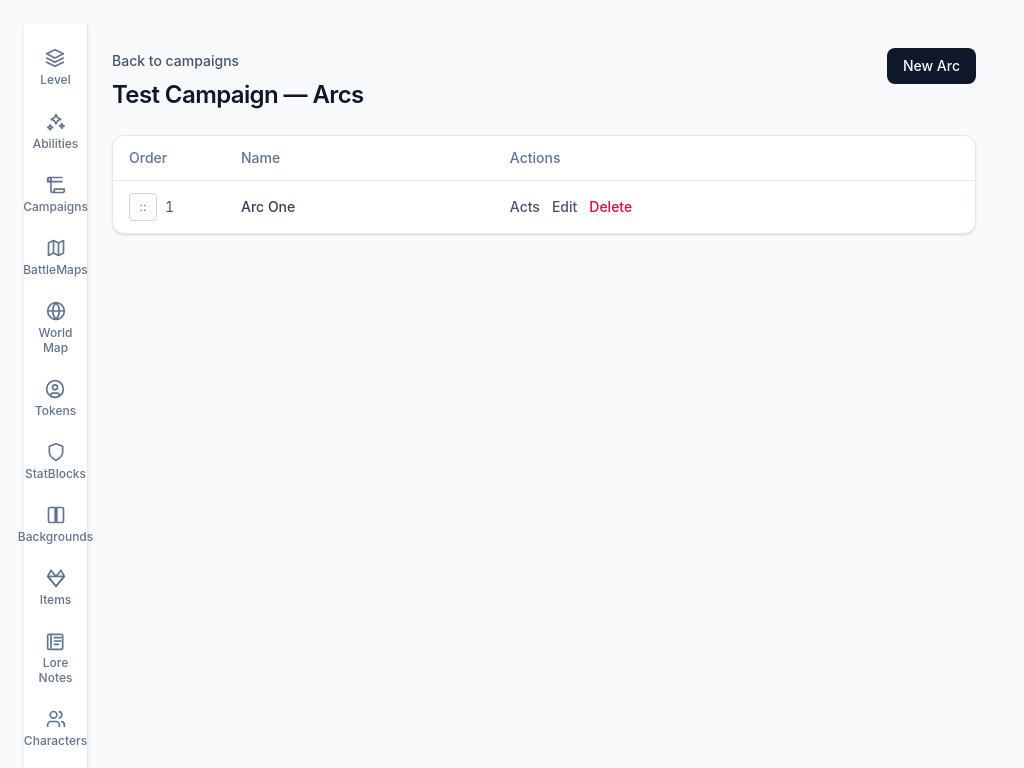
Test: ArcsPage › edit arc › closes edit dialog on Cancel
expect the text "Arc One" is shown: met, box left=225, top=180, right=494, bottom=233
What coordinates should you click on to do the following:
click the button "Edit"
I would click on:
 (565, 207)
Its box is left=552, top=197, right=577, bottom=217.
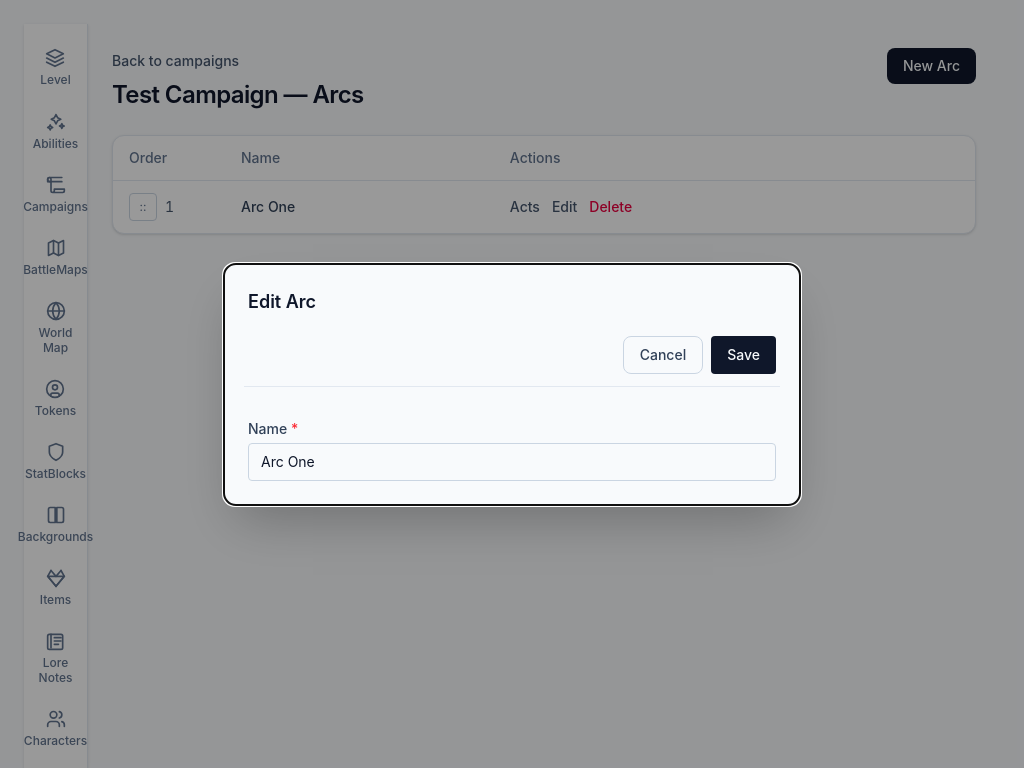
What coordinates should you click on to do the following:
click the button "Cancel"
I would click on:
 (663, 354)
Its box is left=623, top=336, right=703, bottom=374.
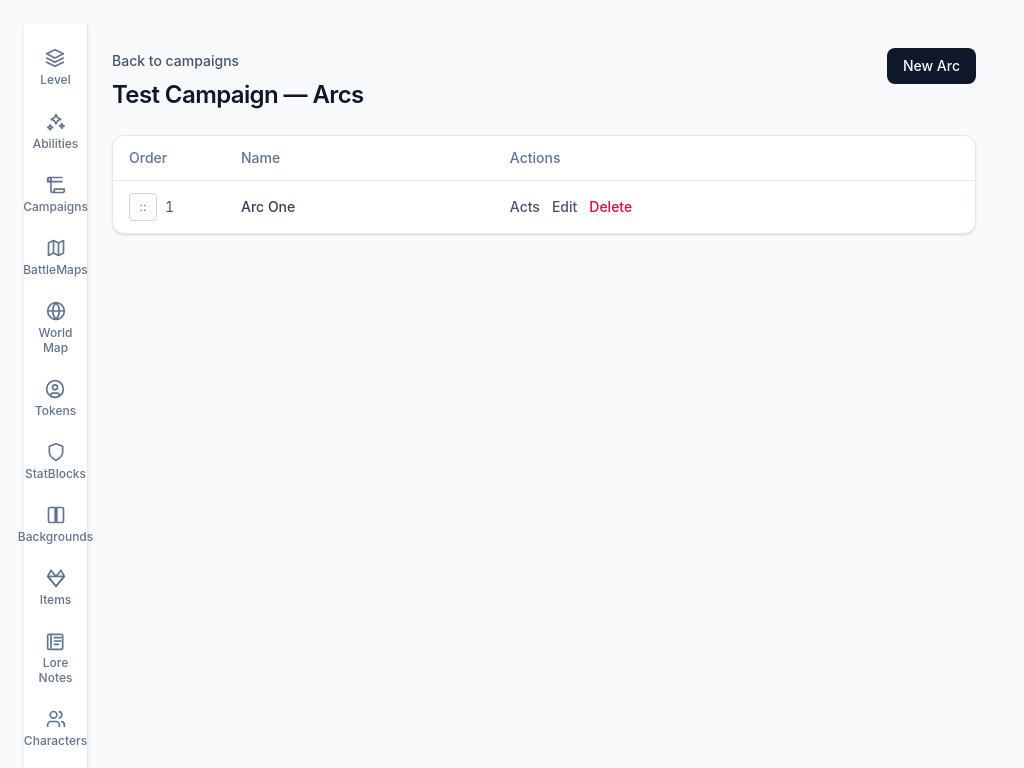
expect the dialog is gone: met
